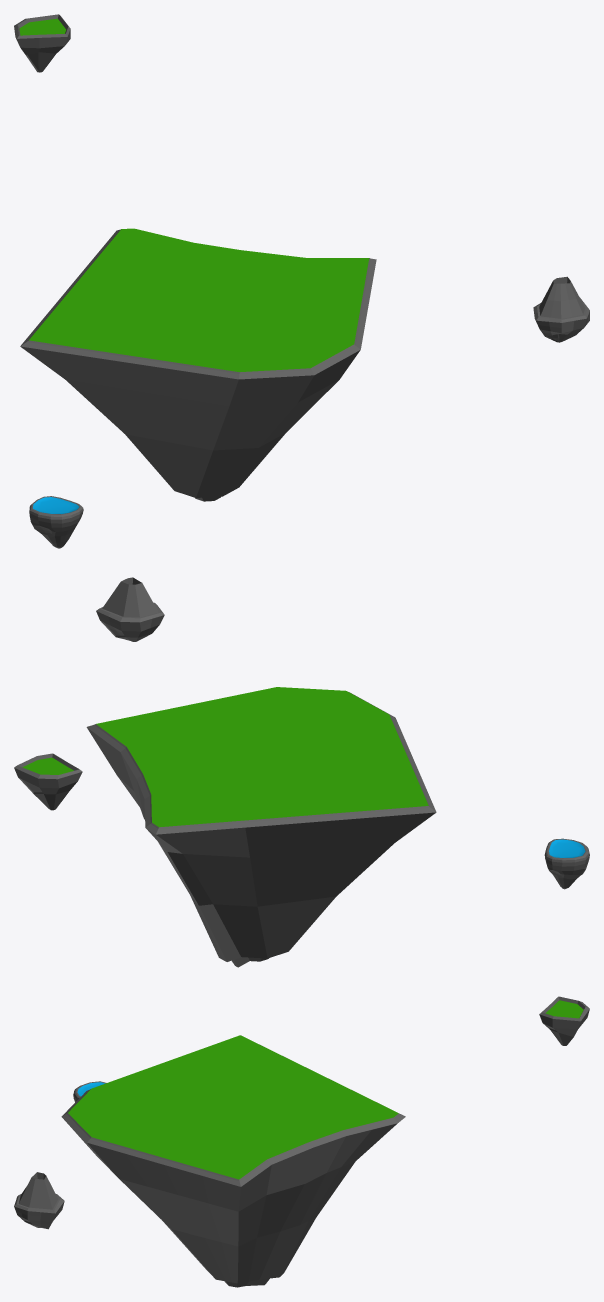
File: Interactive Island Models.fbx
3 renders of one model, top to bottom at view 1: azimuth 30°, elevation 25°; view 2: azimuth 150°, elevation 25°; view 3: azimuth 270°, elevation 25°, orthographic. The views are drawn at different scales.
Visible parts, largest first — view 1: Main Island, Tiny Island_Volcano, Tiny Island_Grass, Tiny Island_Water; view 2: Main Island, Tiny Island_Volcano, Tiny Island_Grass, Tiny Island_Water; view 3: Main Island, Tiny Island_Volcano, Tiny Island_Grass.
Part boxes in pixels (x1,y1,x2,y2): Main Island: [20, 228, 376, 501]; Tiny Island_Volcano: [533, 276, 589, 342]; Tiny Island_Grass: [14, 14, 70, 72]; Tiny Island_Water: [29, 496, 83, 548]; Main Island: [86, 687, 436, 967]; Tiny Island_Volcano: [96, 577, 164, 641]; Tiny Island_Grass: [14, 753, 82, 810]; Tiny Island_Water: [544, 838, 589, 889]; Main Island: [61, 1035, 405, 1287]; Tiny Island_Volcano: [14, 1172, 64, 1229]; Tiny Island_Grass: [539, 996, 589, 1045].
Size of what is drawn, in the model's own units: 20096 by 11944 by 21936.
